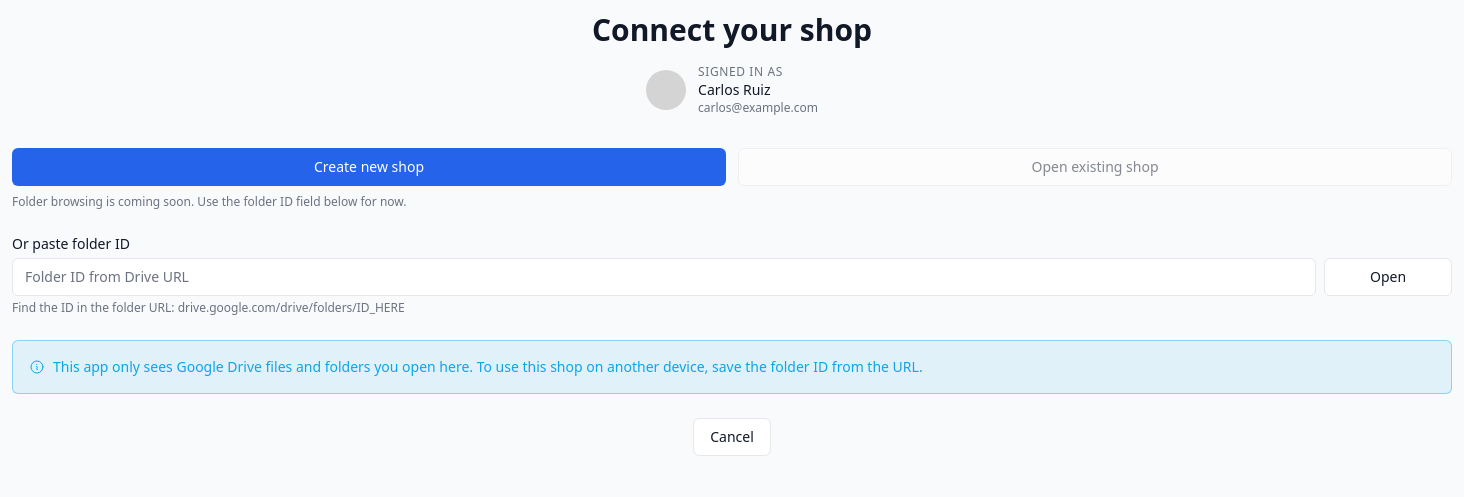
it: GoogleDriveStep › validates an empty folder id instead of opening
Click the button with test id "wizard-google-open-by-id" at (1388, 277), box 1324,258 -> 1452,296
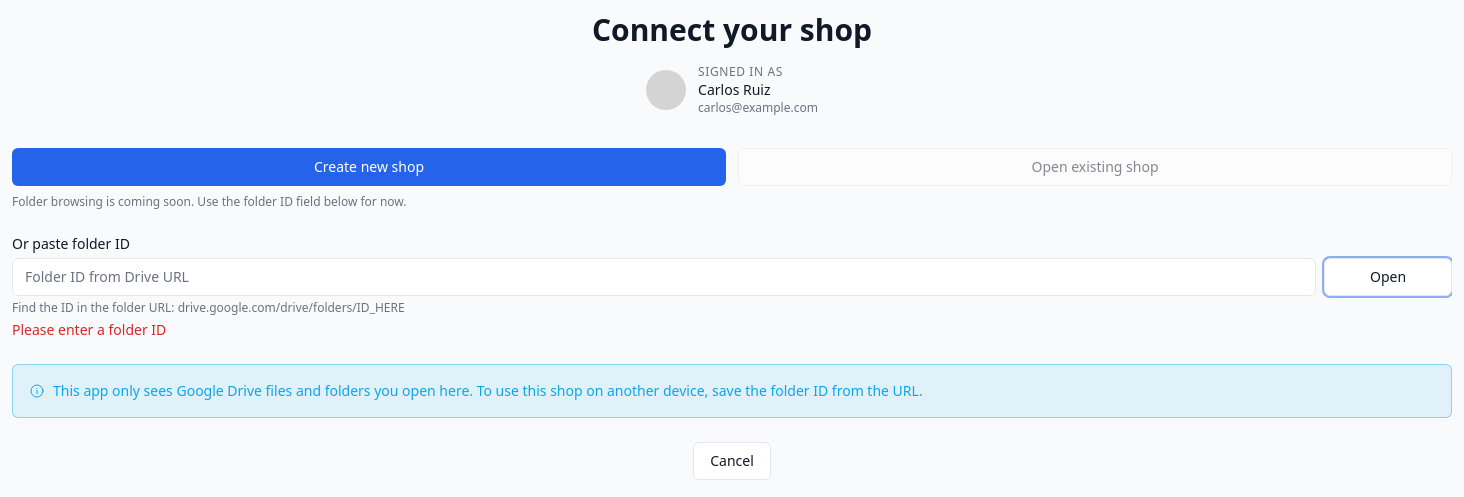
Result: the message "Please enter a folder ID" is shown at 12,320 -> 166,339
